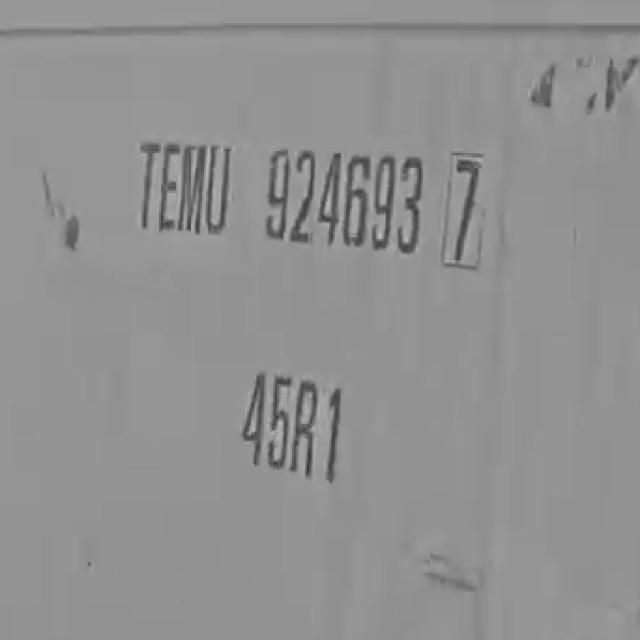dv: (438, 142, 500, 270)
owner: (126, 132, 236, 249)
serial: (262, 133, 427, 269)
size: (213, 354, 372, 482)
